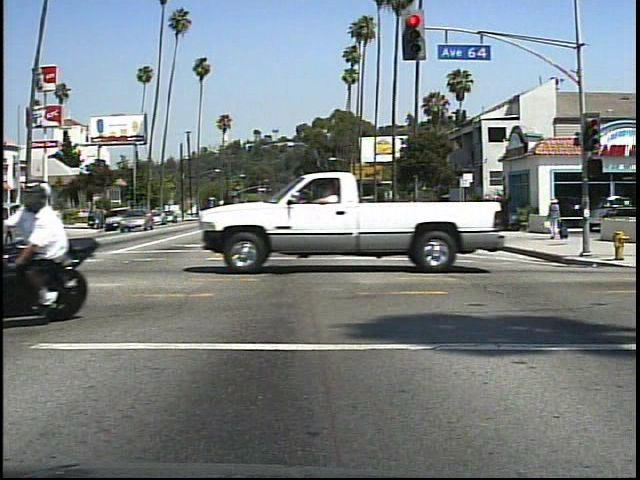person: (542, 195, 566, 242)
